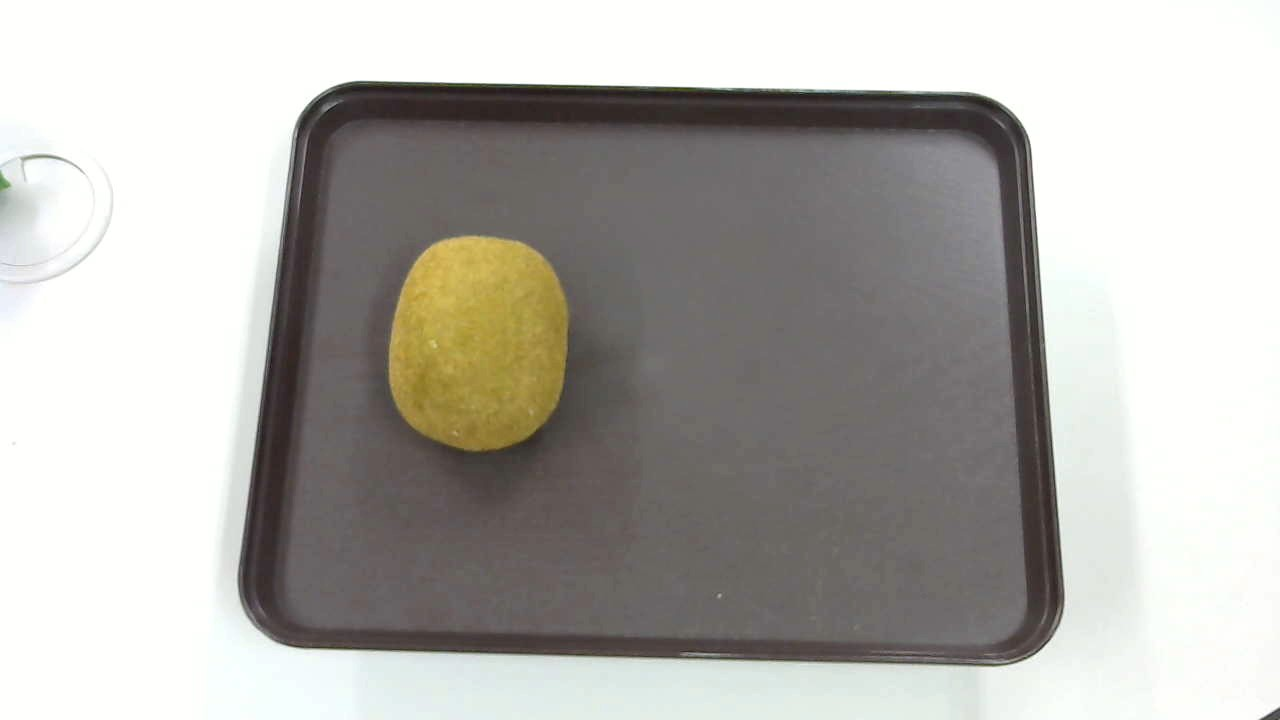mangosteen: (381, 234, 578, 459)
